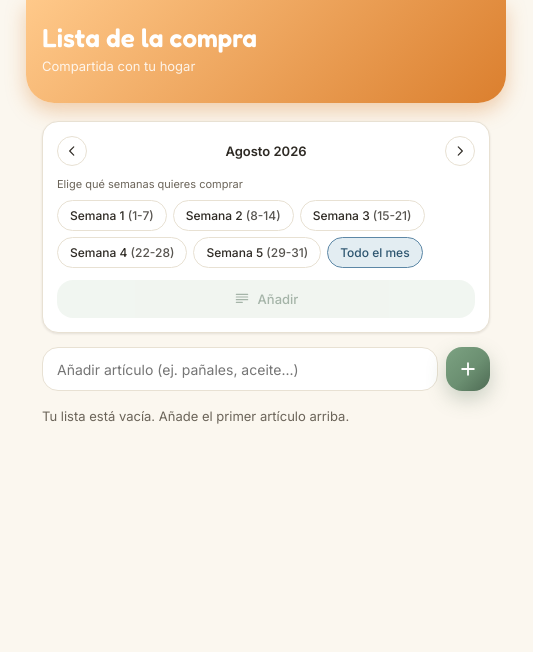
ShoppingList — añadir y quitar artículos a mano › añade un artículo escrito a mano a la lista
Type "Pañales" into the field with placeholder "Añadir artículo (ej. pañales, aceite...)". click: [240, 369]
box: left=42, top=347, right=438, bottom=391
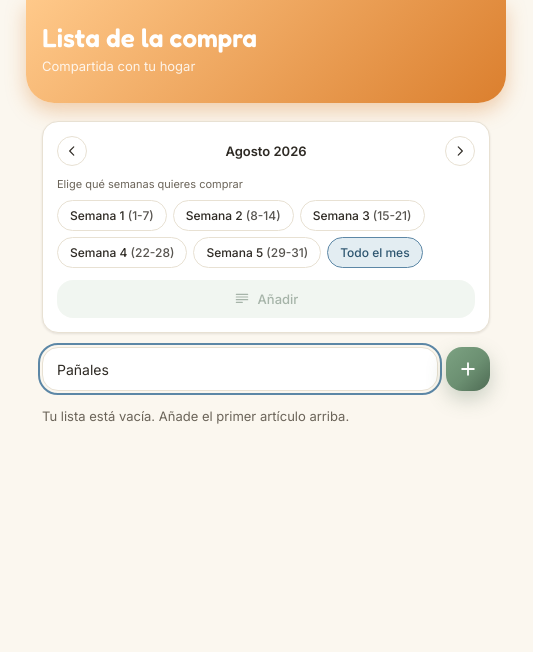
Click the button named "Añadir a la lista". click: [468, 369]
box: left=446, top=347, right=490, bottom=391
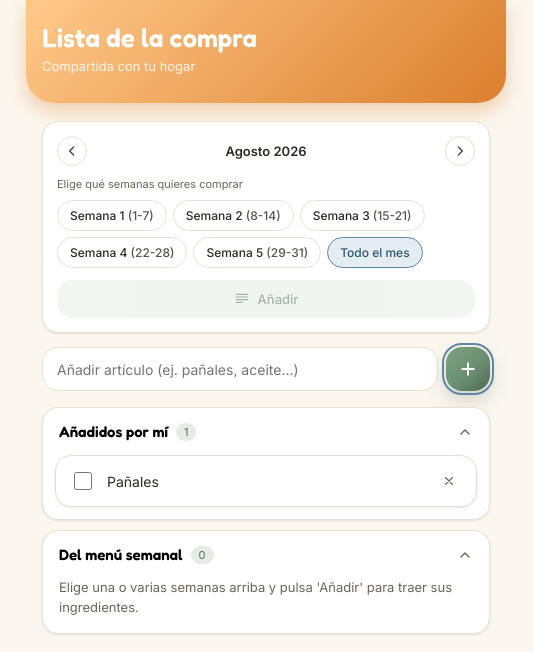
Check: the text "Pañales" is shown, box left=107, top=472, right=159, bottom=490
